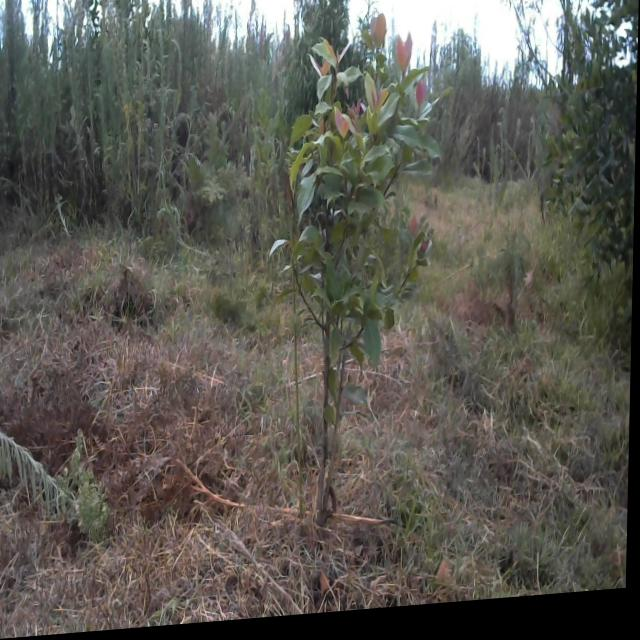Lemon Myrtle: (275, 22, 441, 532)
Syzygium gineense: (549, 0, 640, 333)
